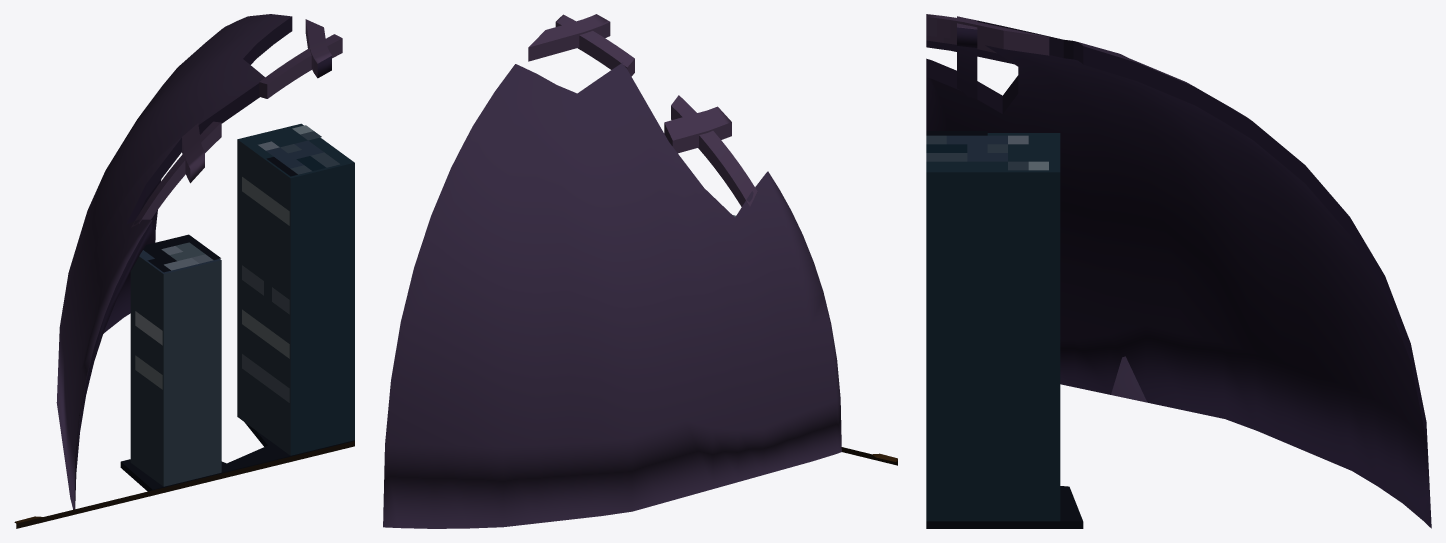
File: newshr-5.glb
The picture shows the model from 3 angles, left to right: view 1: azimuth 30°, elevation 25°; view 2: azimuth 150°, elevation 25°; view 3: azimuth 270°, elevation 25°; orthographic projection. The views are drawn at different scales.
Parts seen in each view (by area): view 1: newshr-5; view 2: newshr-5; view 3: newshr-5.
Part boxes in pixels (box(x1,y1,x2,y2)): newshr-5: box(14, 14, 354, 528); newshr-5: box(383, 14, 897, 528); newshr-5: box(926, 14, 1431, 528).
Size of the model in its own units: 2 by 2.25 by 2.06.
